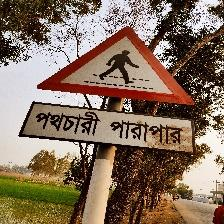Pedestrian-crossing: (22, 25, 196, 151)
